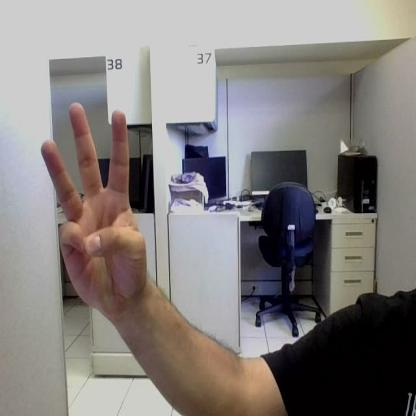W: (42, 106, 146, 310)
